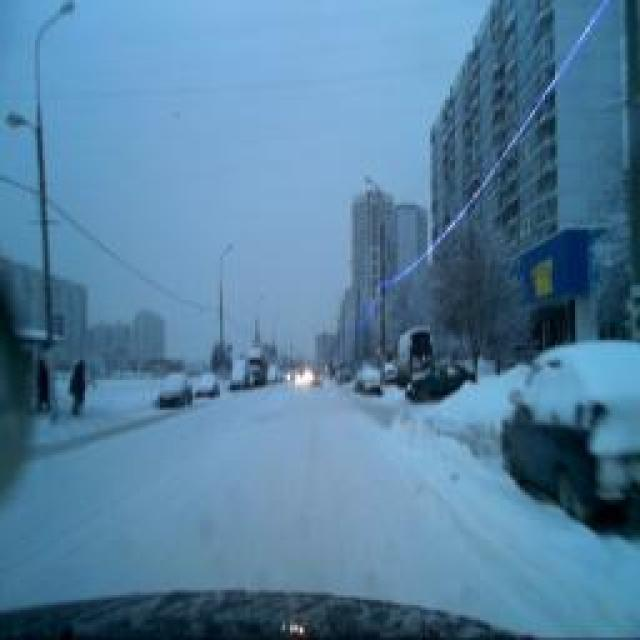sign: (53, 311, 65, 341)
